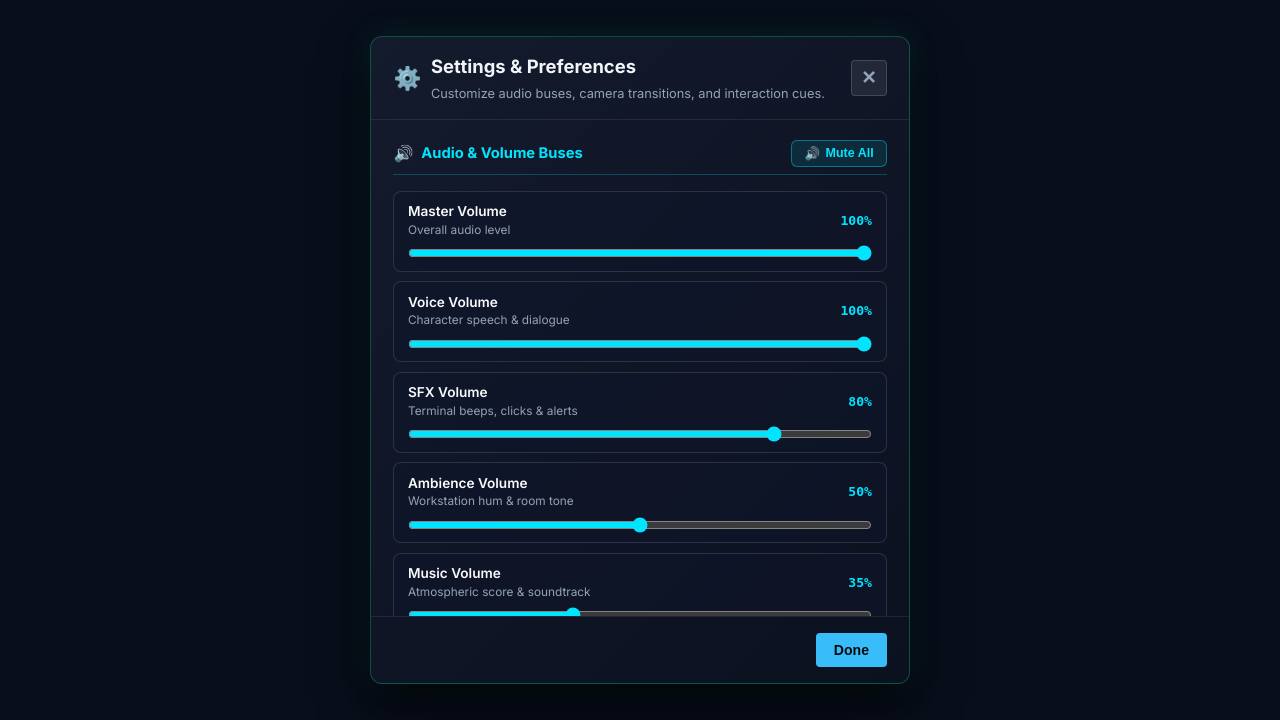
WorkstationSettingsModal Component › toggles mute state and updates the mute button text
The image size is (1280, 720).
Step 1. Click the button with test id "setting-audio-mute" → (839, 153), box [791, 140, 887, 167]
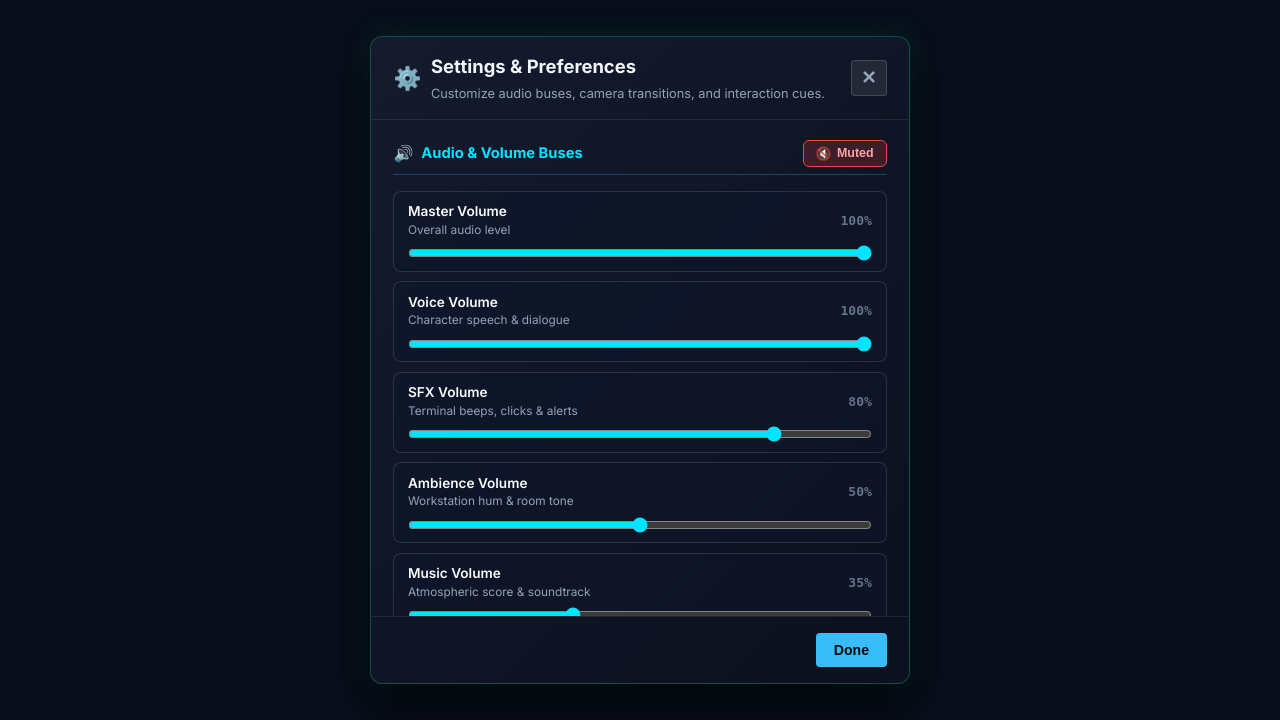
Result: the button with test id "setting-audio-mute" shows "Muted"
Step 2. Click the button with test id "setting-audio-mute" → (845, 153), box [803, 140, 887, 167]
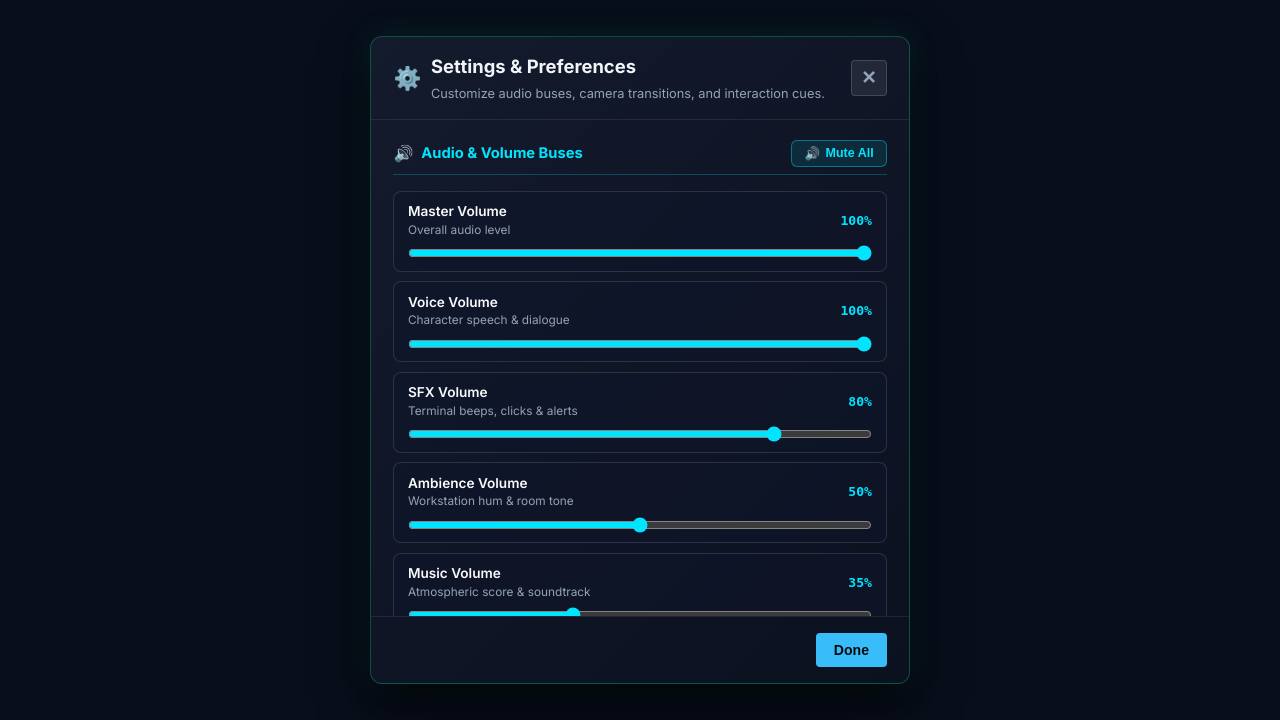
Result: the button with test id "setting-audio-mute" shows "Mute All" at [791, 140, 887, 167]
